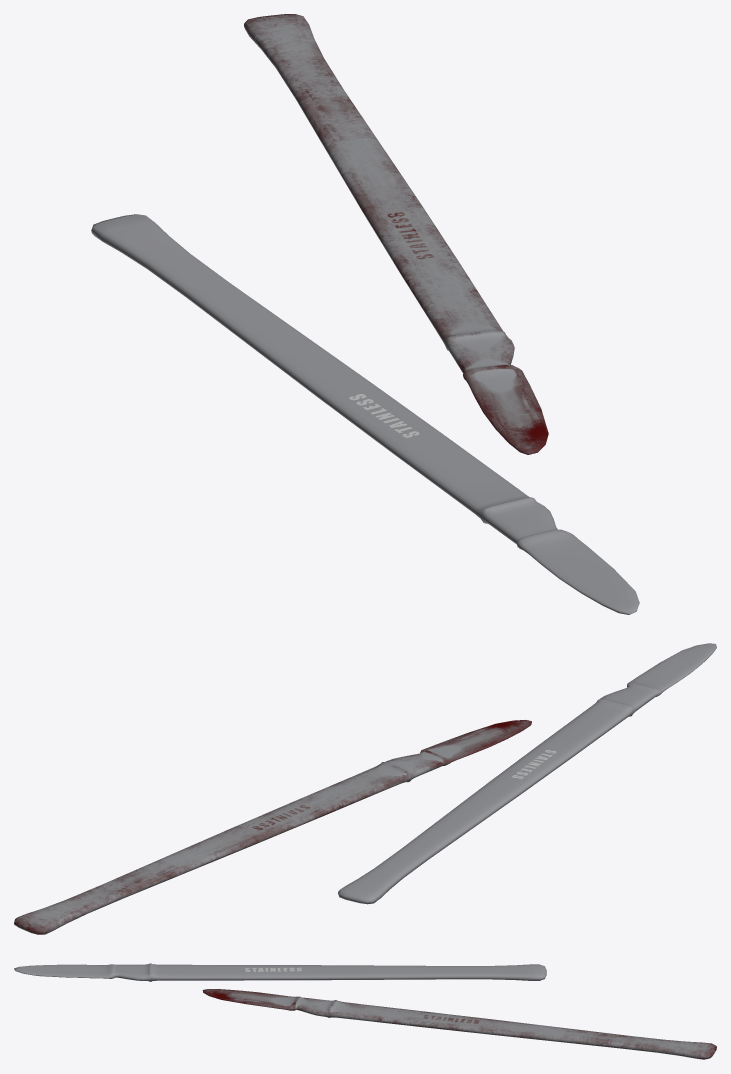
3 views of the same model, one above another, from view 1: azimuth 30°, elevation 25°; view 2: azimuth 150°, elevation 25°; view 3: azimuth 270°, elevation 25° (orthographic). The views are drawn at different scales.
Parts seen in each view (by area): view 1: SM_Scalpel_low_2, SM_Scalpel_low.001_3; view 2: SM_Scalpel_low.001_3, SM_Scalpel_low_2; view 3: SM_Scalpel_low_2, SM_Scalpel_low.001_3.
Part boxes in pixels (x1,y1,x2,y2): SM_Scalpel_low_2: [91, 214, 639, 614]; SM_Scalpel_low.001_3: [244, 14, 548, 454]; SM_Scalpel_low.001_3: [14, 720, 531, 934]; SM_Scalpel_low_2: [338, 643, 716, 904]; SM_Scalpel_low_2: [14, 963, 546, 981]; SM_Scalpel_low.001_3: [202, 989, 716, 1059].
Size of the model in its own units: 0.2216 by 0.00877 by 0.7061.
Materials: 2 (2 with a texture image).
